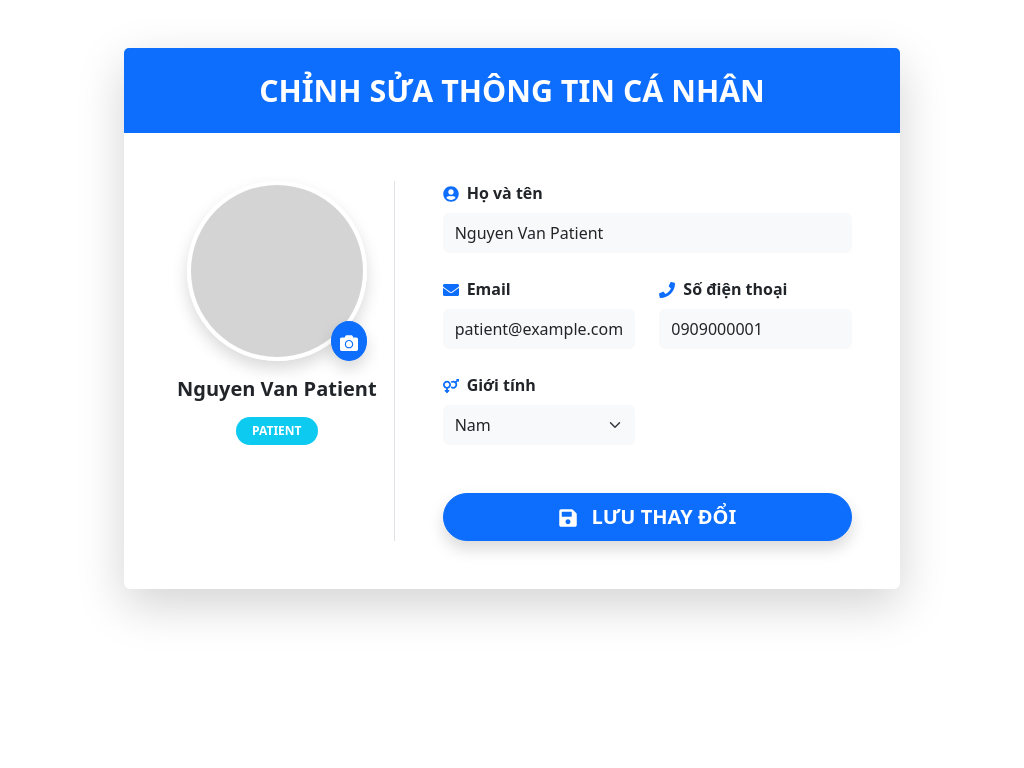
Test: ProfileEditPage › shows an error when the user id is missing
Step 1. Click the button "LƯU THAY ĐỔI" → (647,516), box [443,492,852,540]
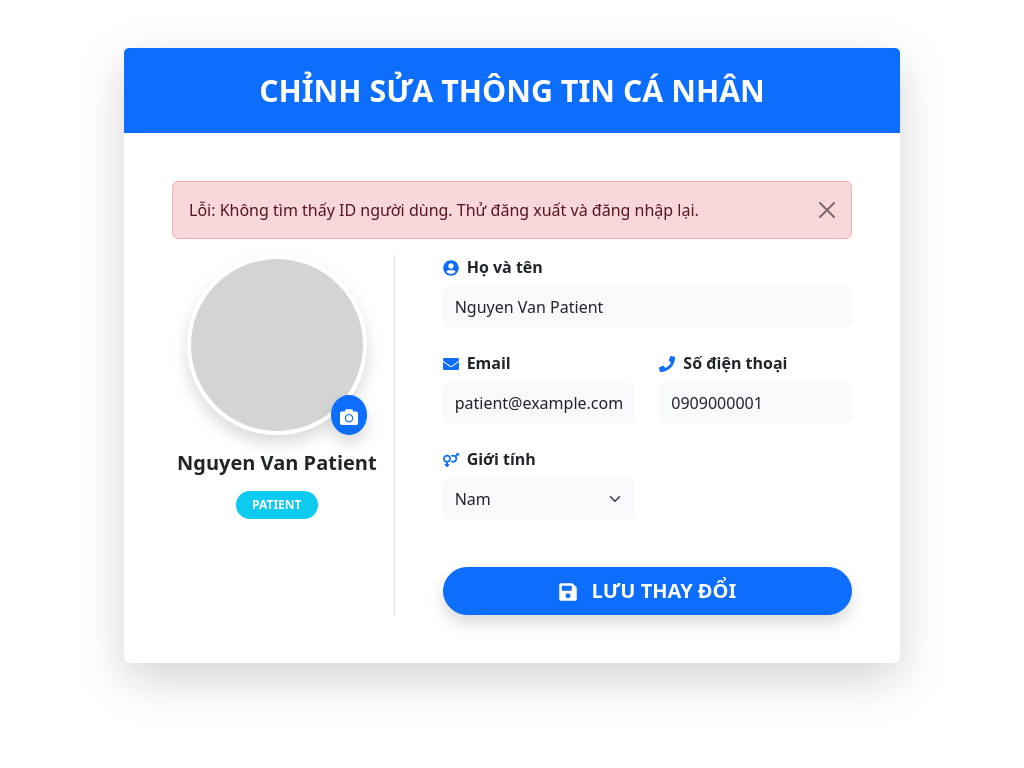
Now the text "Lỗi: Không tìm thấy ID người dùng. Thử đăng xuất và đăng nhập lại." is shown, box [172,180,852,238]
